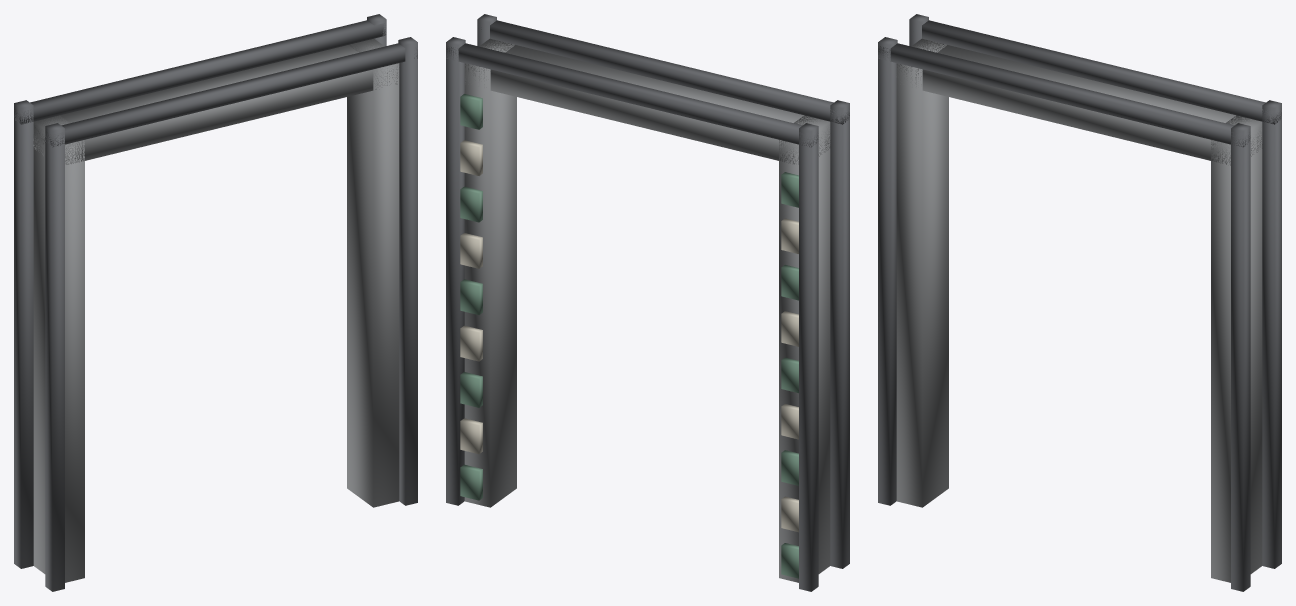
File: doorway_tile_return_w152_h210_d24.glb
3 views of the same model, side by side, from view 1: azimuth 30°, elevation 25°; view 2: azimuth 150°, elevation 25°; view 3: azimuth 330°, elevation 25° (orthographic).
Visible parts, largest first — view 1: world; view 2: world; view 3: world.
Part boxes in pixels (x1=…): world: x1=14, y1=14, x2=417, y2=591; world: x1=446, y1=14, x2=849, y2=591; world: x1=878, y1=14, x2=1281, y2=591.
Bounding box in the file's own units: 1.92 × 2.32 × 0.3516.
